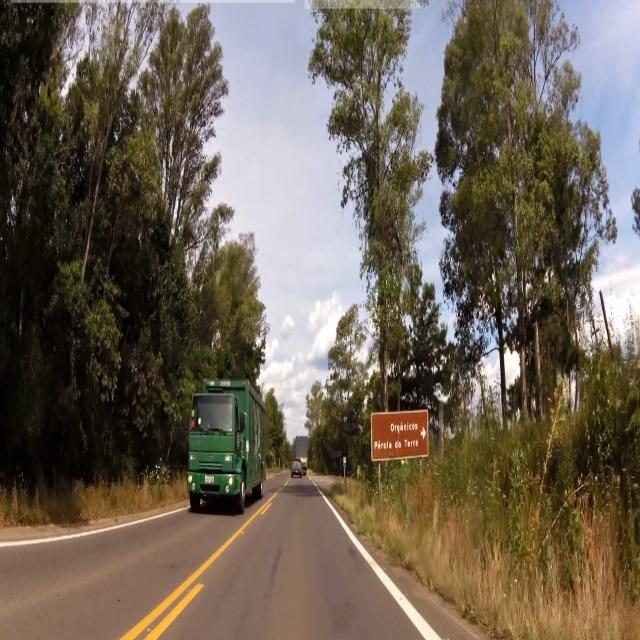TUR-4: (373, 412, 427, 456)
